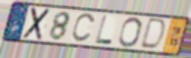8: (49, 11, 72, 42)
C: (70, 13, 97, 44)
D: (138, 17, 168, 52)
L: (94, 15, 114, 46)
O: (117, 16, 144, 49)
X: (20, 7, 52, 42)
